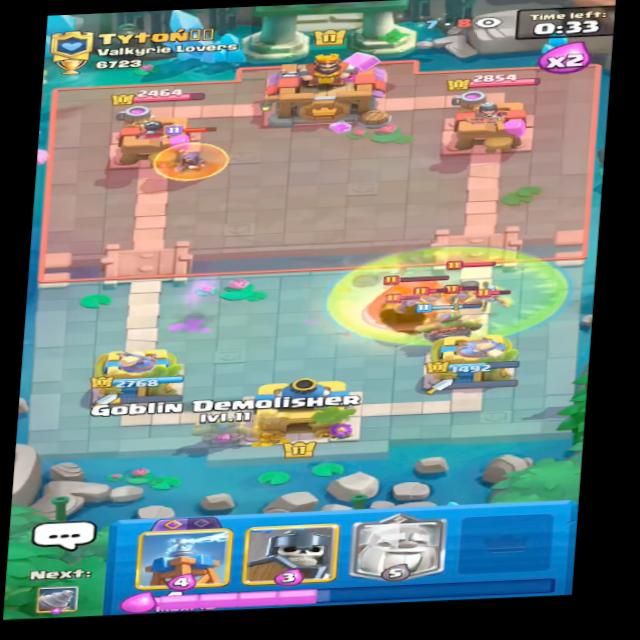bats: (469, 286, 520, 307), (386, 291, 433, 311), (446, 287, 480, 302)
evo-wizard: (151, 124, 233, 182)
giant: (358, 267, 470, 321)
night-witch: (443, 252, 498, 311)
